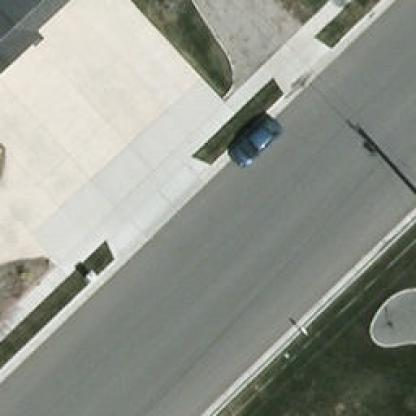car: (226, 114, 283, 169)
